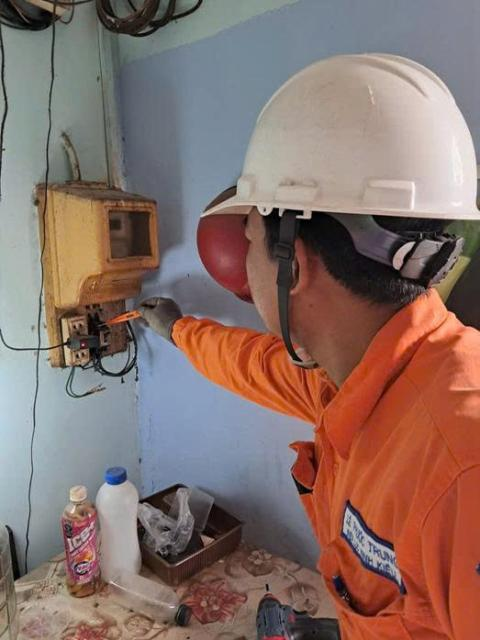gloves: (123, 286, 193, 357)
helmet: (198, 47, 480, 231)
